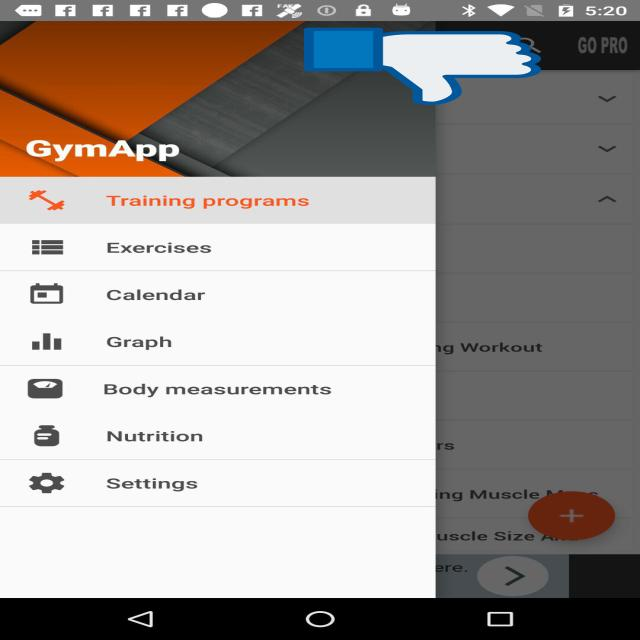obstruction: (304, 26, 541, 107)
